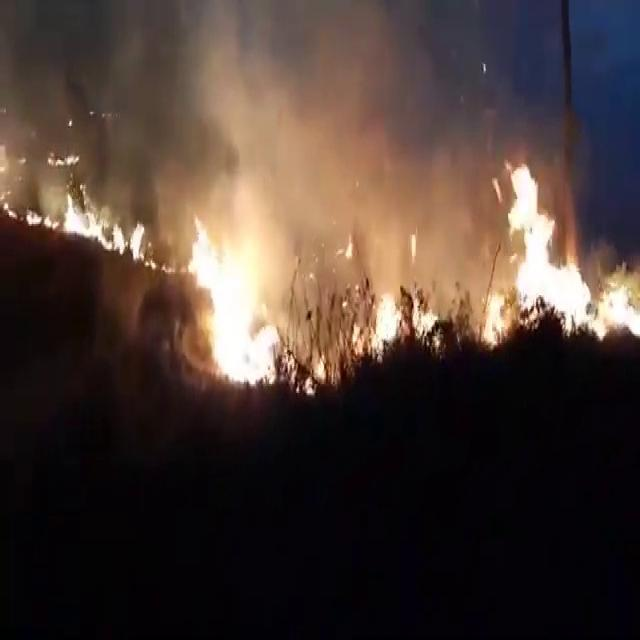Fire: (481, 154, 636, 350), (190, 220, 284, 382), (65, 194, 148, 265), (355, 288, 414, 358), (5, 190, 53, 235), (126, 216, 155, 268), (301, 352, 328, 398), (47, 149, 81, 167)
Smoke: (4, 7, 557, 325), (156, 17, 452, 205)
